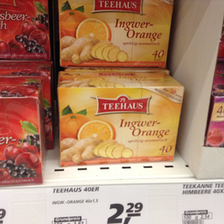tea: (57, 73, 184, 168), (57, 1, 174, 70)
